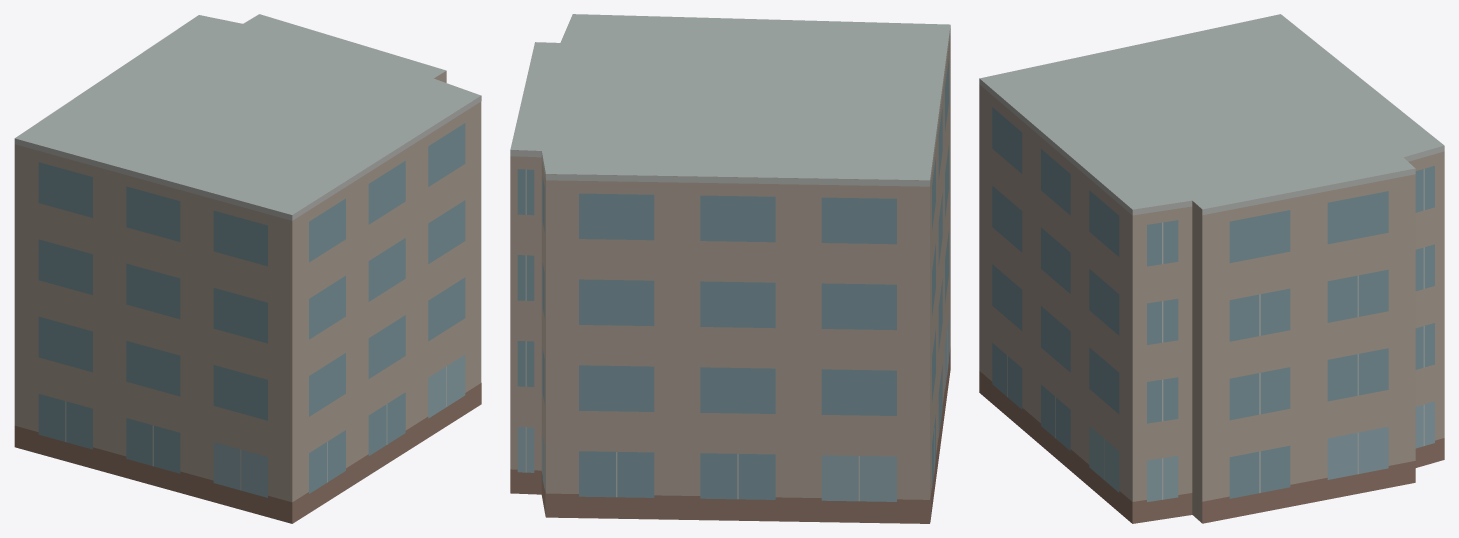
The model's file is survey-upis-32633400.glb.
3 views of the same model, side by side, from view 1: azimuth 30°, elevation 25°; view 2: azimuth 150°, elevation 25°; view 3: azimuth 270°, elevation 25° (orthographic). The views are drawn at different scales.
Parts seen in each view (by area): view 1: survey-upis-32633400.tmp; view 2: survey-upis-32633400.tmp; view 3: survey-upis-32633400.tmp.
Part boxes in pixels (x1,y1,x2,y2): survey-upis-32633400.tmp: (14, 14, 481, 523); survey-upis-32633400.tmp: (510, 14, 950, 523); survey-upis-32633400.tmp: (979, 14, 1444, 523).
Bounding box in the file's own units: 17.64 × 13.2 × 17.72.
